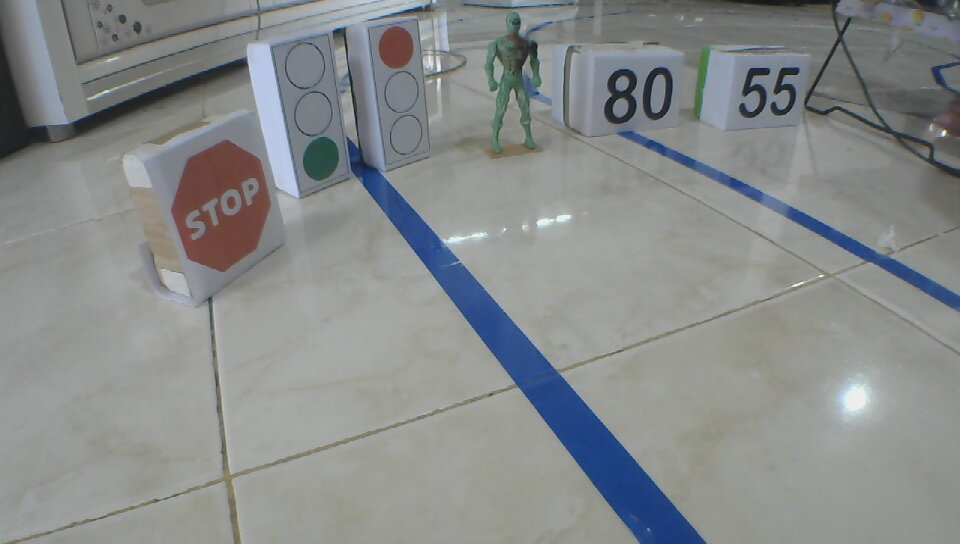Green Light: (284, 41, 342, 182)
Person: (486, 12, 543, 154)
Red Light: (377, 24, 424, 158)
Speed 55: (736, 66, 800, 119)
Speed 80: (603, 66, 674, 124)
Stop: (170, 139, 270, 274)
